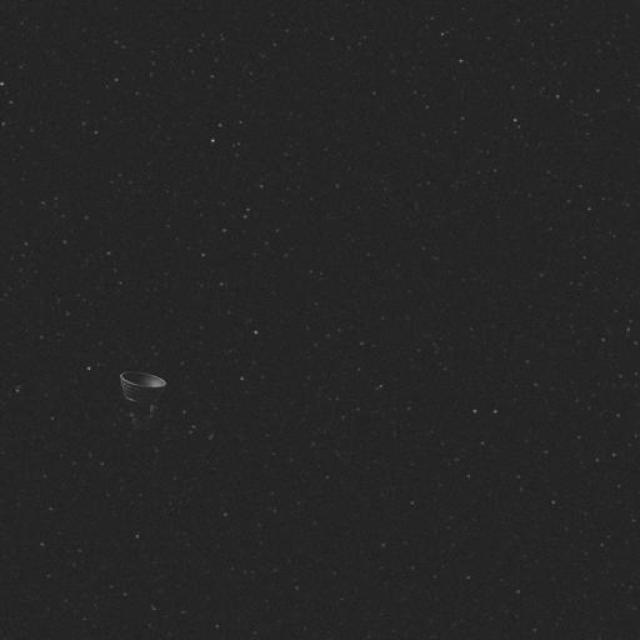debris: (108, 366, 176, 424)
